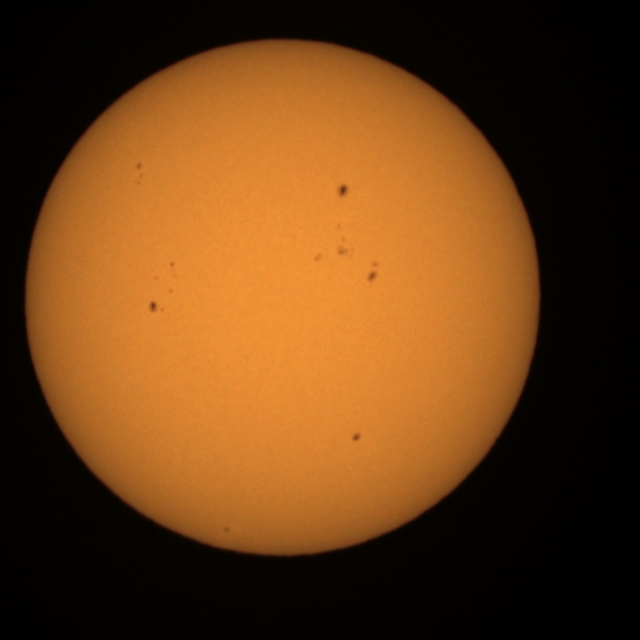sunspot: (335, 226, 356, 259), (366, 260, 381, 284), (134, 160, 145, 187), (147, 300, 166, 315), (336, 182, 350, 199), (313, 252, 324, 264), (350, 432, 362, 443), (222, 526, 231, 534), (167, 287, 174, 295), (169, 260, 176, 268)
